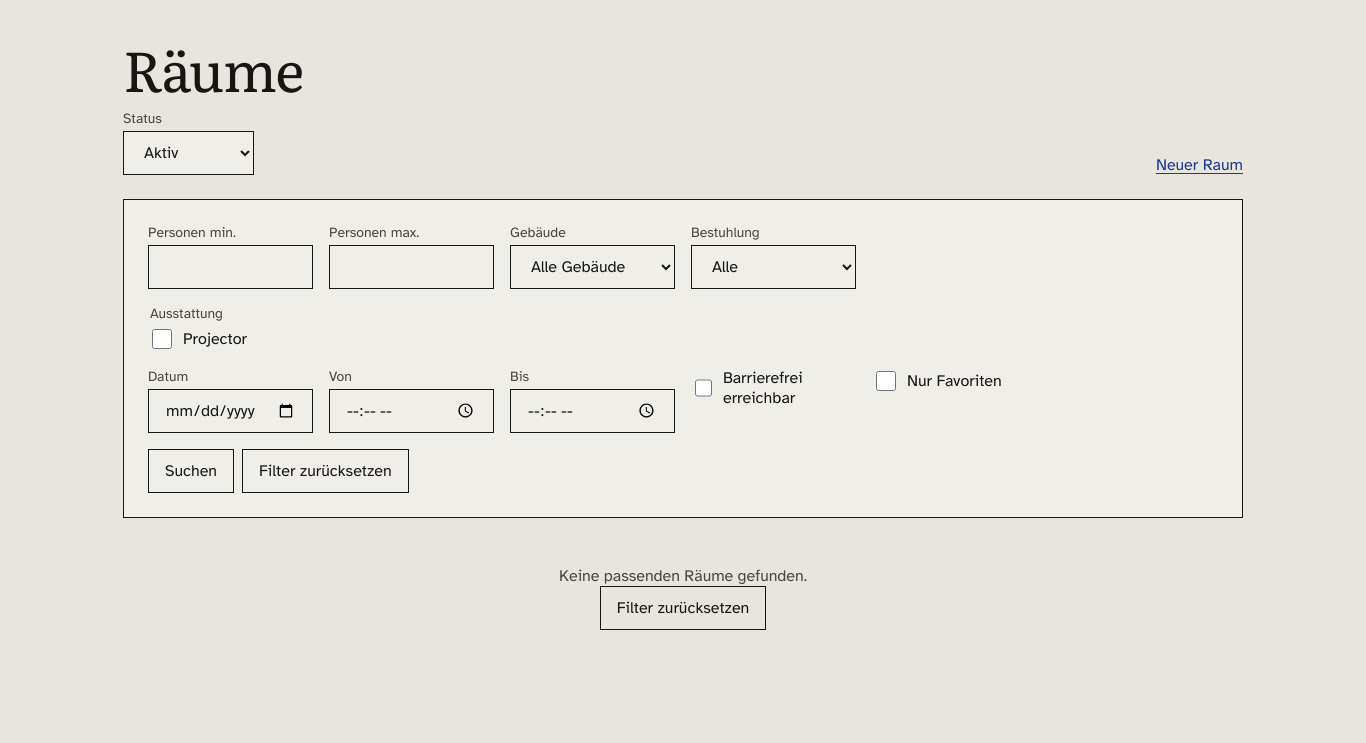
Test: RoomListPage › renders the room status with a semantic status class
The image size is (1366, 743).
Select "Alle" in the dropdown labelled "Status". click: coordinates (188, 153)
box: x1=123 y1=131 x2=254 y2=175
(page scrolled)
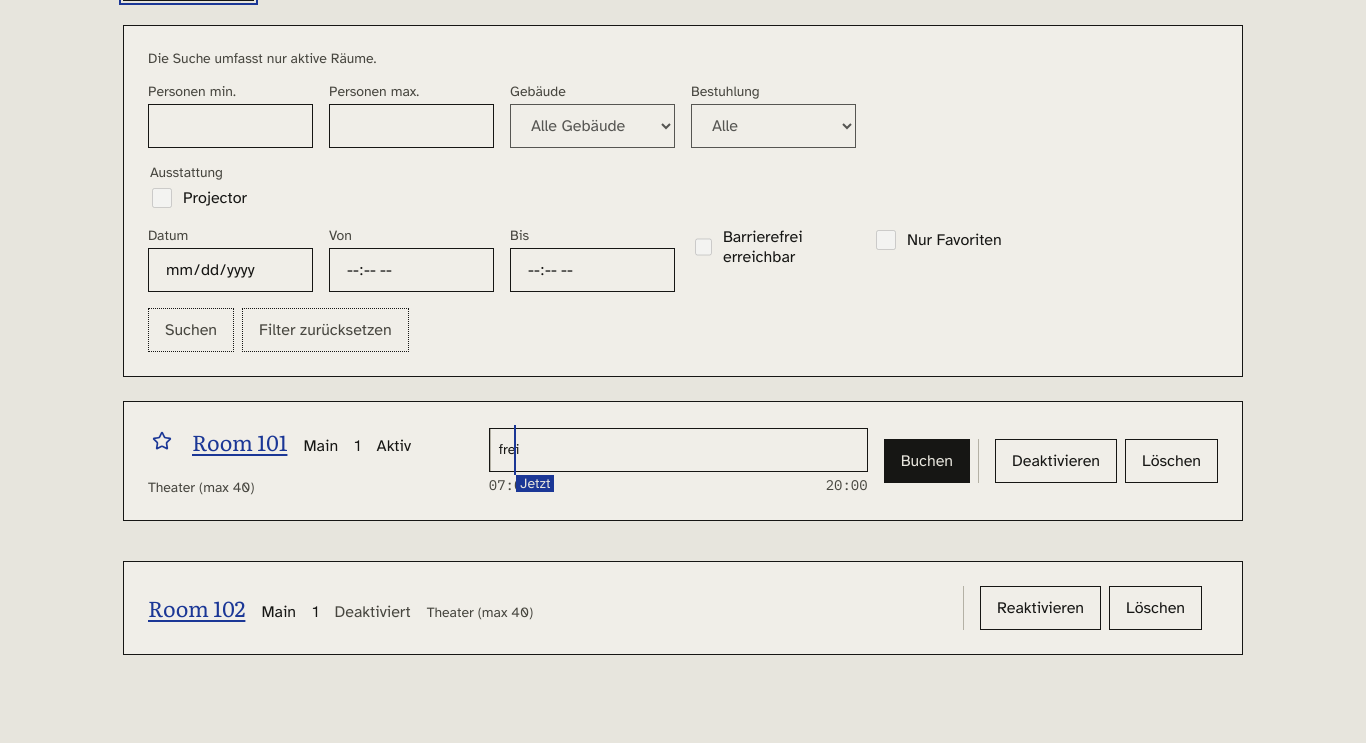
Check: the link "Room 102" is shown, box x1=148 y1=592 x2=245 y2=624
